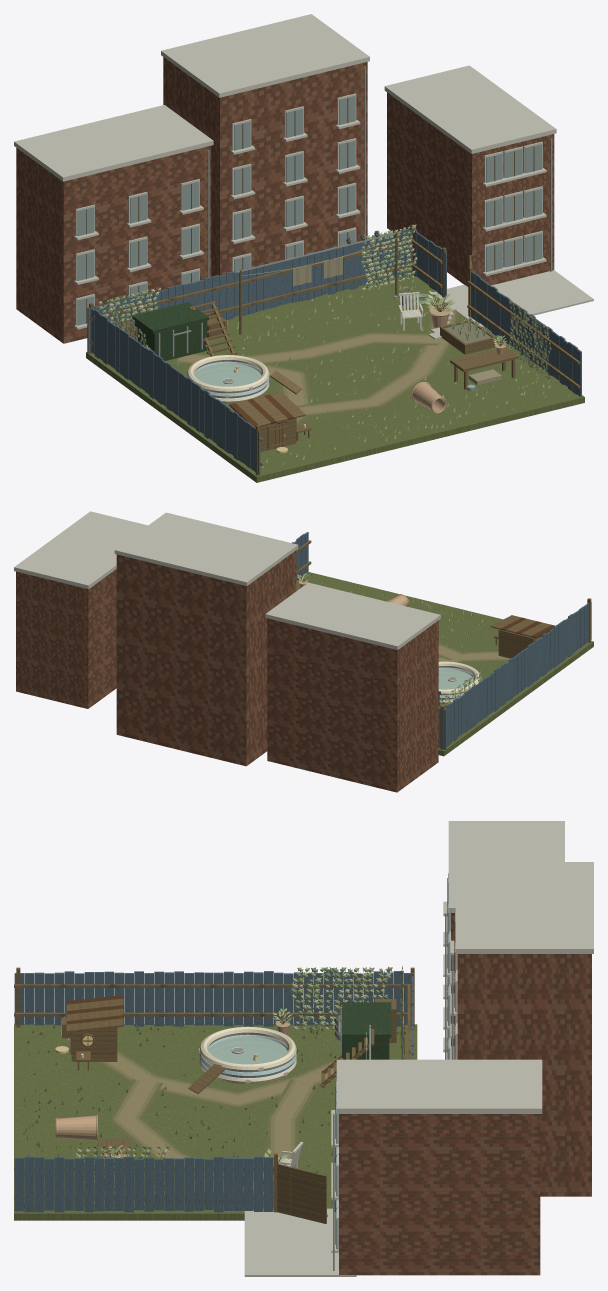
The model's file is backyard-design78.glb.
3 views of the same model, one above another, from view 1: azimuth 30°, elevation 25°; view 2: azimuth 150°, elevation 25°; view 3: azimuth 270°, elevation 25° (orthographic). The views are drawn at different scales.
Parts seen in each view (by area): view 1: Brick apartment block (×3), Backyard ground, Roof parapet (×3), Alley paving, Back brace (×2), Ground cover patch Leaf 0, Ground cover patch Leaf 3, Ground cover patch Leaf 2, Ground cover patch Leaf 1, Dumpster wall, Dumpster lid, Inflatable pool ring (+2 smaller); view 2: Brick apartment block (×3), Roof parapet (×3), Backyard ground, House rear, Water surface, Inflatable pool ring; view 3: Brick apartment block (×2), Backyard ground, Roof parapet (×3), Alley paving, Left brace (×2), Inflatable pool ring (×2), Dumpster lid, Water surface, Ground cover patch Leaf 3, Ground cover patch Leaf 2, Ground cover patch Leaf 0, Ground cover patch Leaf 1 (+9 smaller).
Boxes of the visible parts, x1,y1,x2,y2 form: Brick apartment block (×3): (16, 57, 554, 343); Backyard ground: (86, 274, 584, 482); Roof parapet (×3): (14, 14, 556, 181); Alley paving: (433, 270, 593, 326); Back brace (×2): (90, 239, 413, 344); Ground cover patch Leaf 0: (94, 230, 549, 467); Ground cover patch Leaf 3: (102, 226, 570, 464); Ground cover patch Leaf 2: (104, 227, 551, 462); Ground cover patch Leaf 1: (98, 224, 550, 449); Dumpster wall: (154, 320, 207, 360); Dumpster lid: (132, 302, 208, 333); Inflatable pool ring: (187, 355, 268, 393); Brick apartment block (×3): (16, 550, 438, 792); Roof parapet (×3): (14, 511, 440, 649); Backyard ground: (296, 572, 593, 756); House rear: (498, 629, 533, 658); Water surface: (438, 669, 473, 689); Inflatable pool ring: (438, 661, 480, 695); Brick apartment block (×2): (339, 954, 591, 1275); Backyard ground: (14, 1024, 417, 1220); Roof parapet (×3): (336, 821, 593, 1113); Alley paving: (244, 1208, 356, 1276); Left brace (×2): (14, 984, 411, 1016); Inflatable pool ring (×2): (199, 1026, 296, 1077); Dumpster lid: (342, 1002, 391, 1037); Water surface: (208, 1037, 287, 1064); Ground cover patch Leaf 3: (24, 966, 405, 1208); Ground cover patch Leaf 2: (22, 967, 403, 1208); Ground cover patch Leaf 0: (32, 967, 403, 1204); Ground cover patch Leaf 1: (23, 966, 403, 1207).
Size of the model in its own units: 27.18 by 12.59 by 25.89.
Materials: 25 (7 with a texture image).
